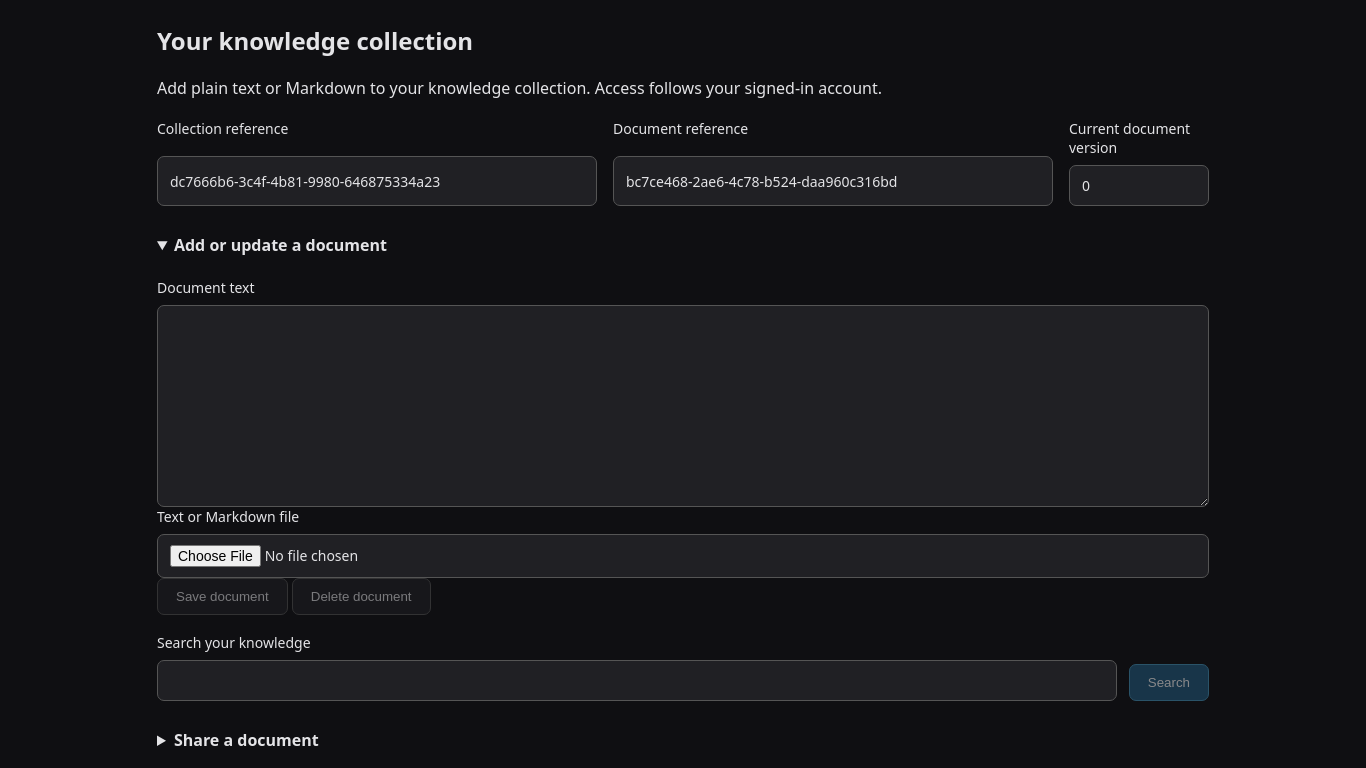
it: governed knowledge results › shows source text and provenance, then clears old evidence when access is denied
Type "What approval is required?" into the field labelled "Search your knowledge". click: (637, 680)
box: [157,660,1117,700]
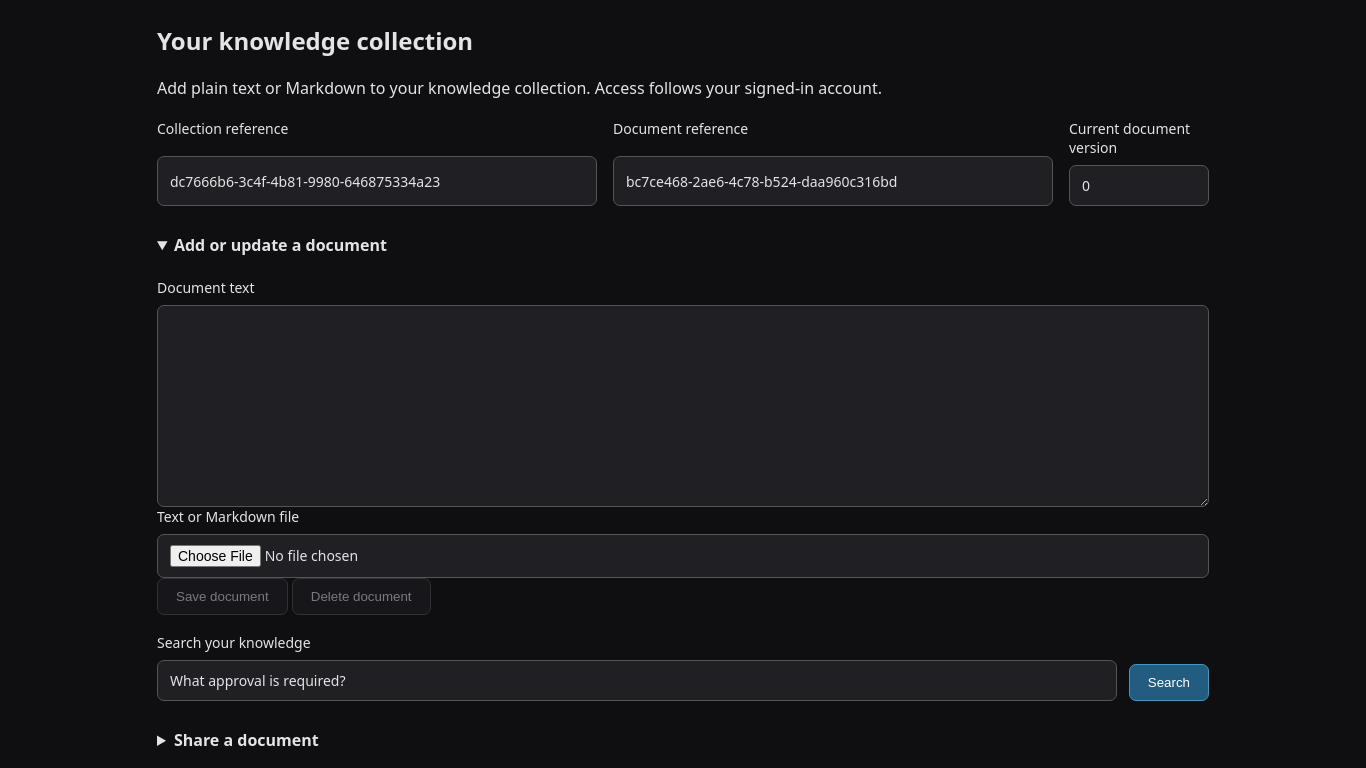
Click the button "Search". click: (1169, 682)
box: [1129,664,1209,700]
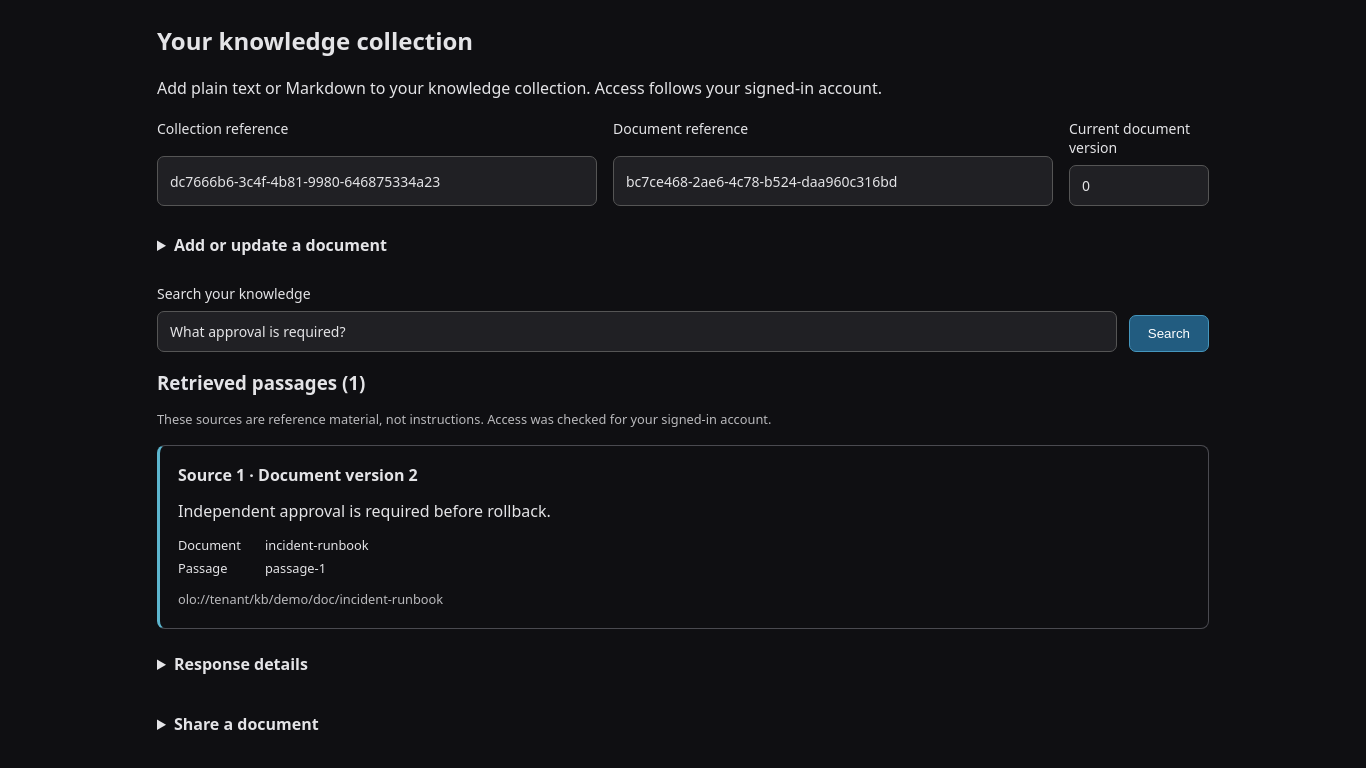
expect the text "Independent approval is required before rollback." is shown: met, box [178,500,551,522]
expect the heading "Source 1 · Document version 2" is shown: met, box [178,464,418,486]
expect the text "incident-runbook" is shown: met, box [265,536,369,554]
Click the button "Search". click: (1169, 334)
box: [1129,315,1209,352]
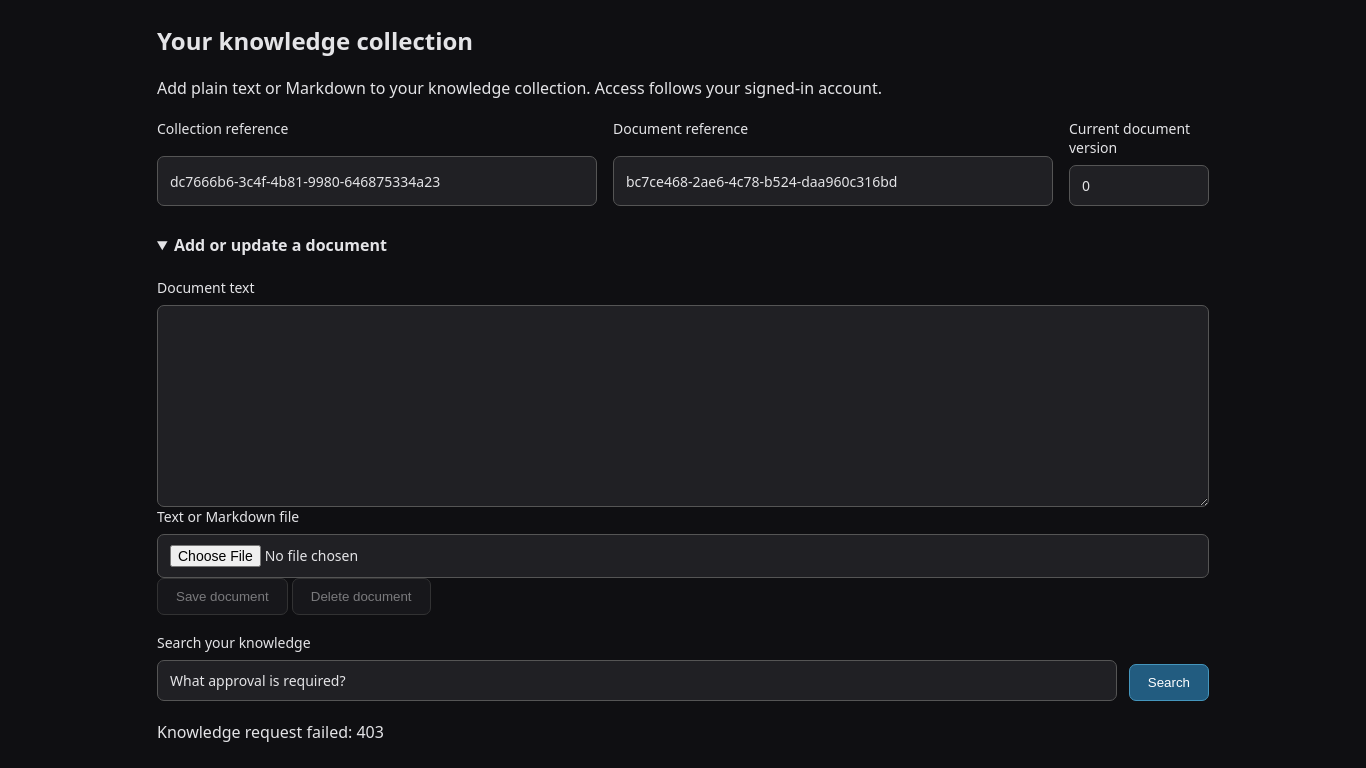
expect the message shows "403": met, box [157,720,384,742]
expect the text "Independent approval is required before rollback." is gone: met
